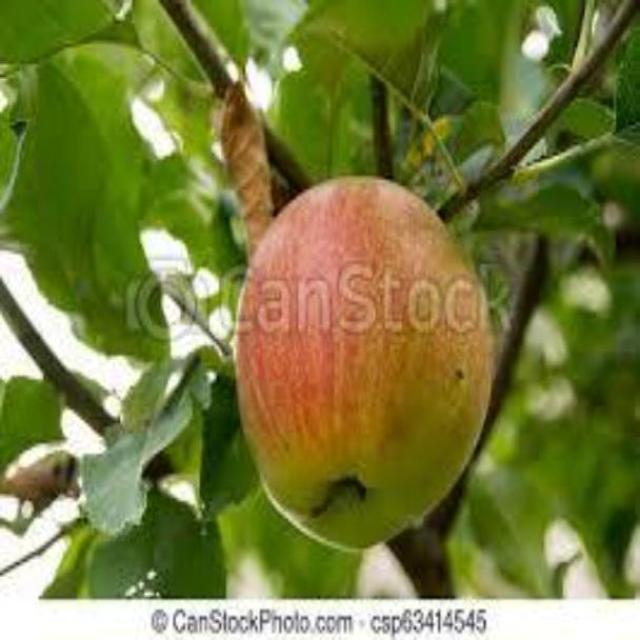HEALTHY: (229, 160, 516, 575)
